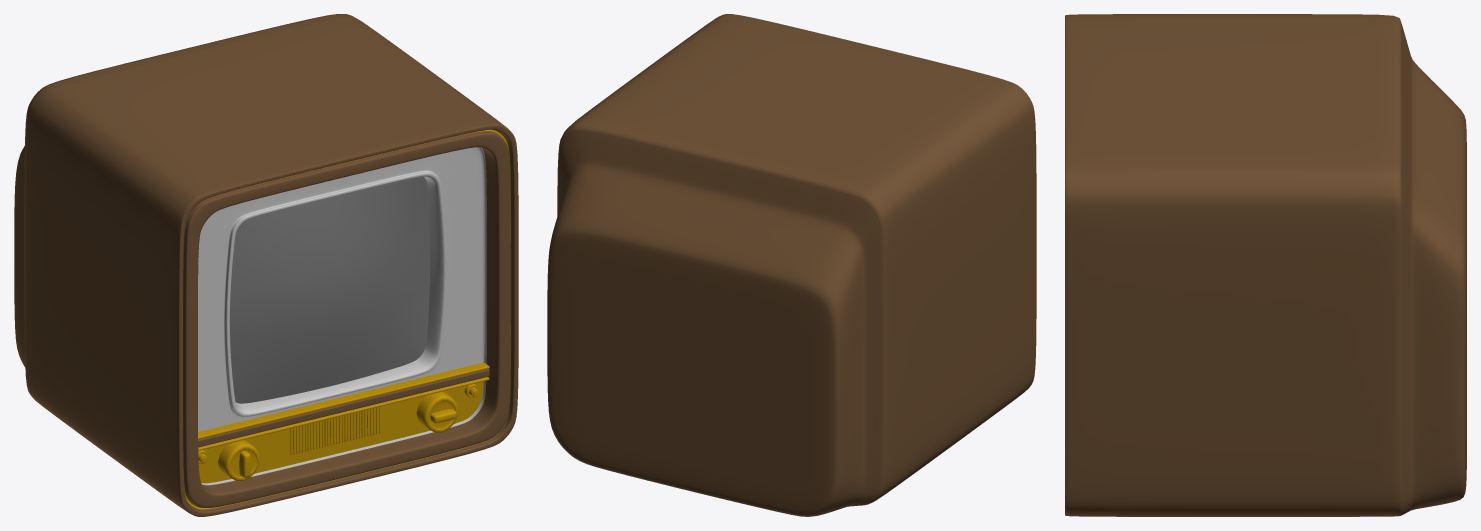
3 renders of one model, left to right at view 1: azimuth 30°, elevation 25°; view 2: azimuth 150°, elevation 25°; view 3: azimuth 270°, elevation 25°, orthographic. The views are drawn at different scales.
Parts seen in each view (by area): view 1: Knobs2; view 2: Knobs2; view 3: Knobs2.
Part boxes in pixels (x1,y1,x2,y2): Knobs2: [14, 14, 518, 516]; Knobs2: [547, 14, 1036, 516]; Knobs2: [1065, 14, 1466, 516].
Size of the model in its own units: 35.99 by 33.06 by 34.09.
